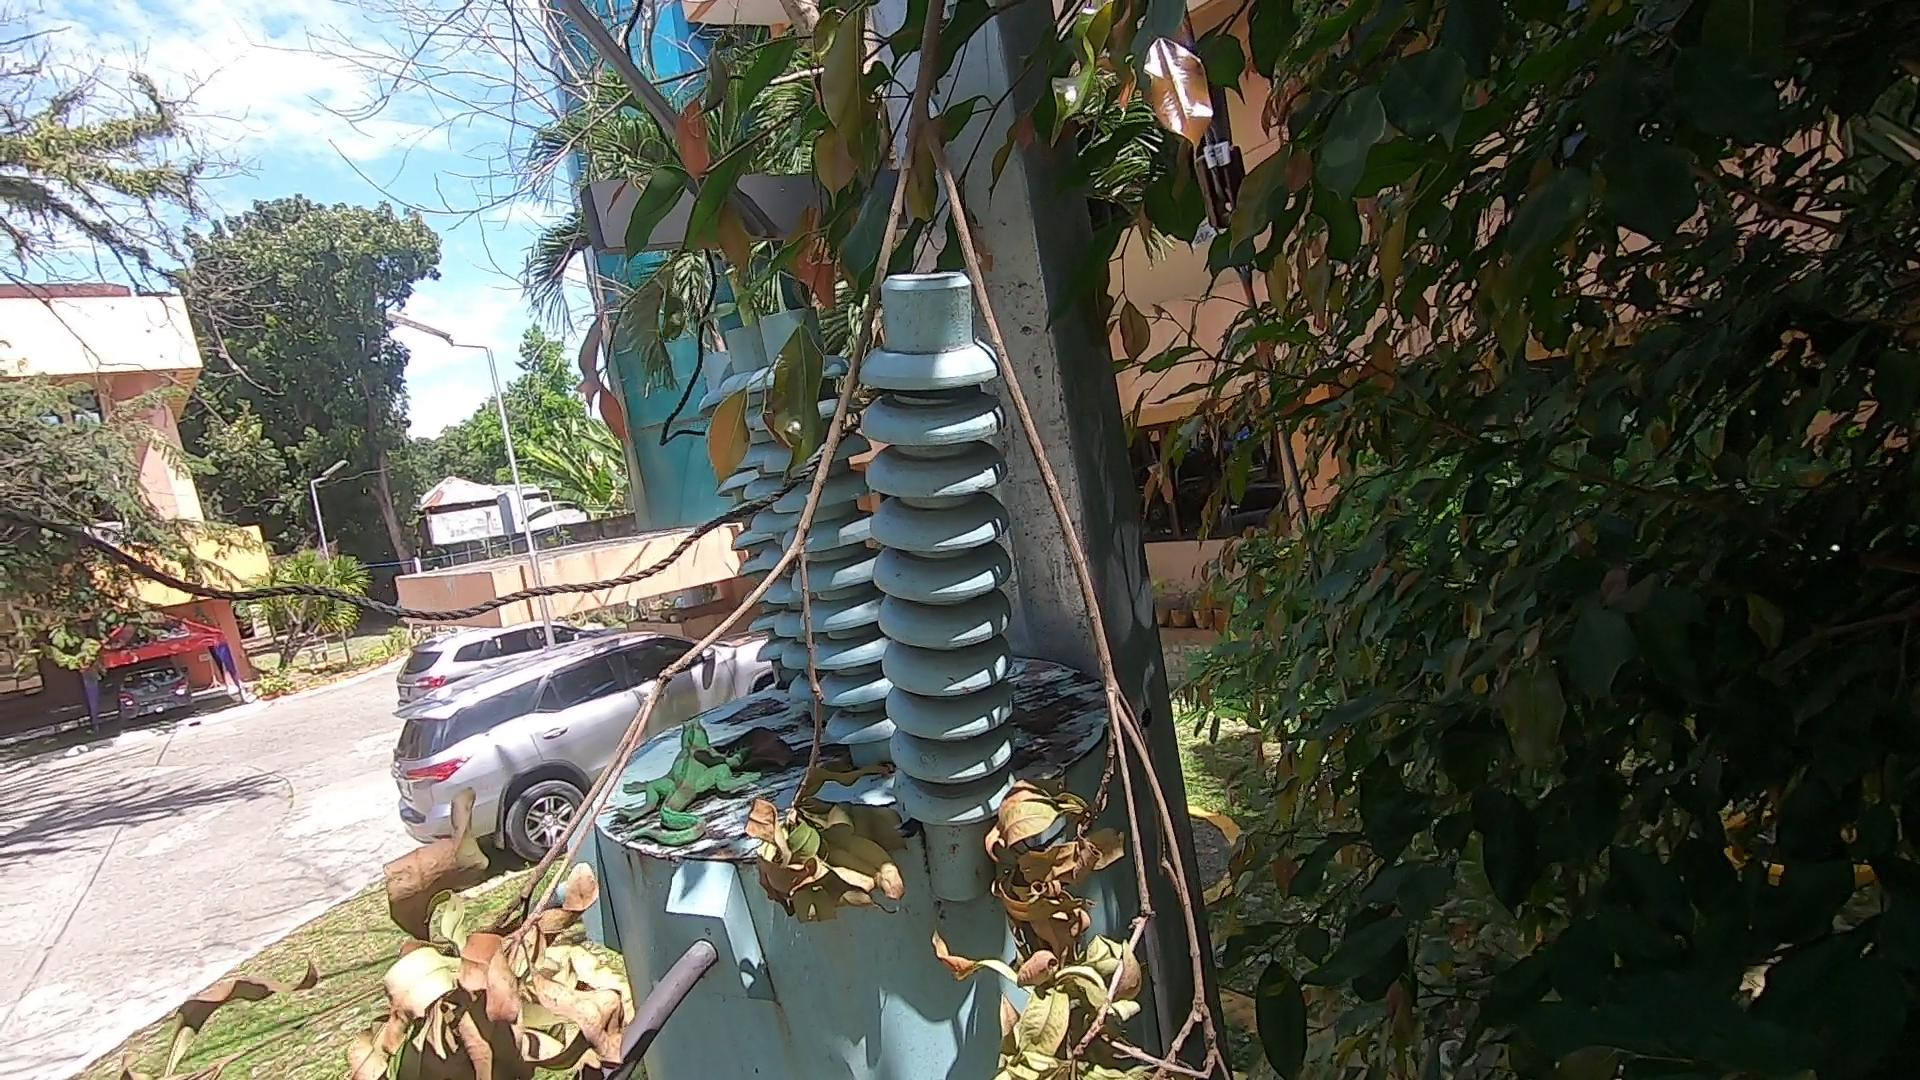branch with leaves: (105, 1, 1262, 1073)
leaf: (727, 725, 806, 775)
